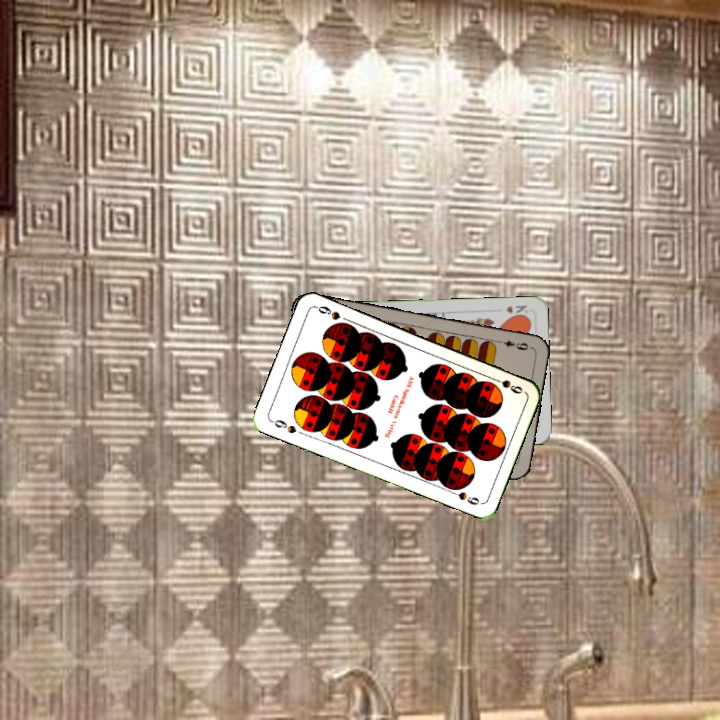E9: (493, 336, 534, 353)
HK: (501, 301, 530, 320)
S9: (487, 373, 525, 396), (267, 416, 299, 436)
